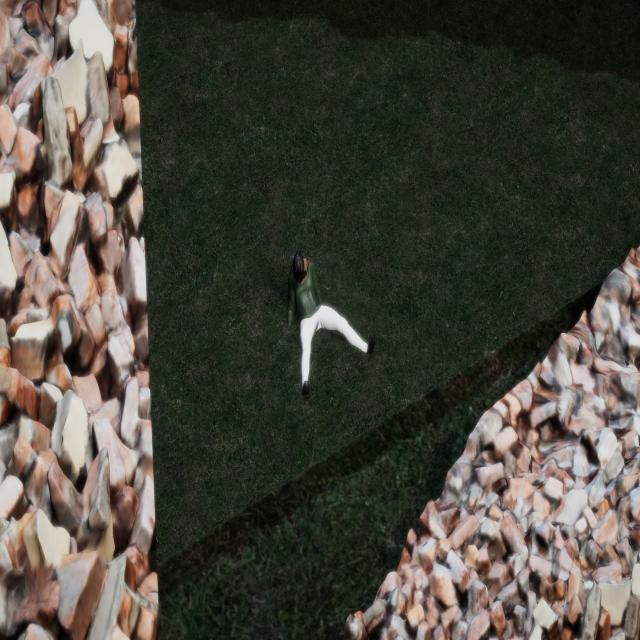Human: (272, 238, 377, 410)
